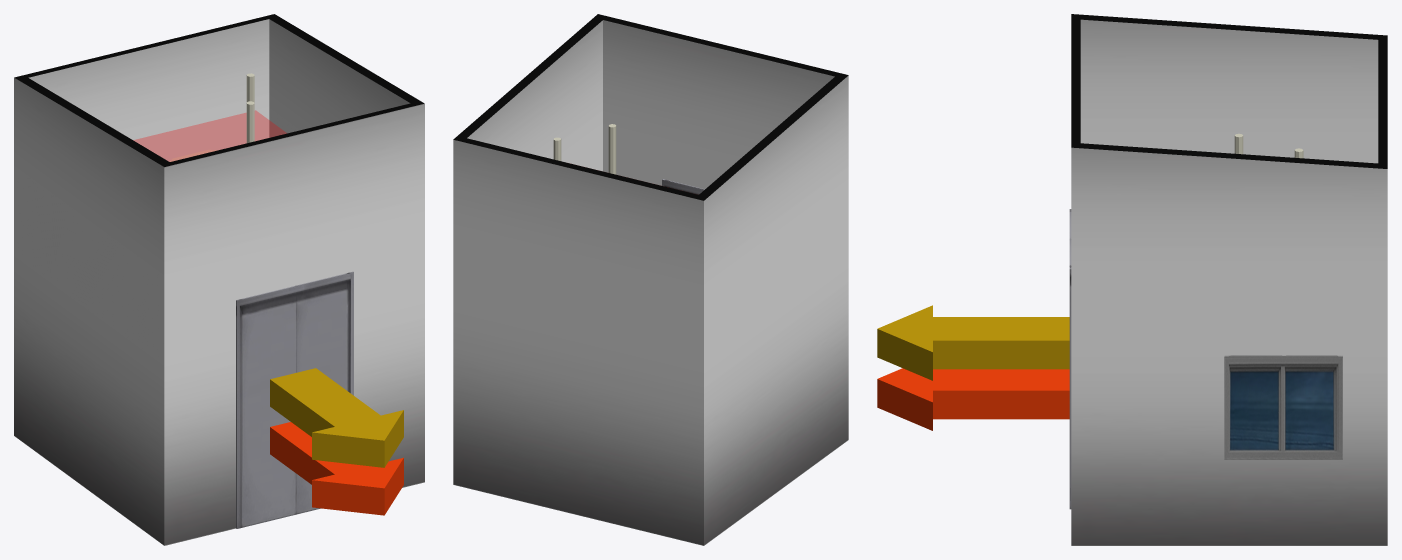
Rendered from soulbrain_T2-7-1F.glb.
The picture shows the model from 3 angles, left to right: view 1: azimuth 30°, elevation 25°; view 2: azimuth 150°, elevation 25°; view 3: azimuth 270°, elevation 25°; orthographic projection. The views are drawn at different scales.
Parts seen in each view (by area): view 1: Box1921, Box1922, arrow_Y_1_T2-7-1F, arrow_R_1_T2-7-1F, equipment-T2-7-1F-001, ChamferCyl188; view 2: Box1921, ChamferCyl188; view 3: Box1921, T2-7-1F, arrow_Y_1_T2-7-1F, arrow_R_1_T2-7-1F, Box1922.
Part boxes in pixels (x1,y1,x2,y2): Box1921: (14, 14, 424, 545); Box1922: (236, 271, 353, 528); arrow_Y_1_T2-7-1F: (270, 368, 403, 467); arrow_R_1_T2-7-1F: (270, 422, 403, 515); equipment-T2-7-1F-001: (134, 110, 286, 161); ChamferCyl188: (169, 73, 254, 161); Box1921: (453, 14, 848, 545); ChamferCyl188: (553, 124, 616, 174); Box1921: (1071, 14, 1387, 545); T2-7-1F: (1224, 355, 1342, 459); arrow_Y_1_T2-7-1F: (877, 305, 1069, 380); arrow_R_1_T2-7-1F: (877, 368, 1069, 430); Box1922: (1069, 209, 1071, 509).
Bounding box in the file's own units: 4.03 × 5.56 × 6.46.
11 materials, 7 textured.
